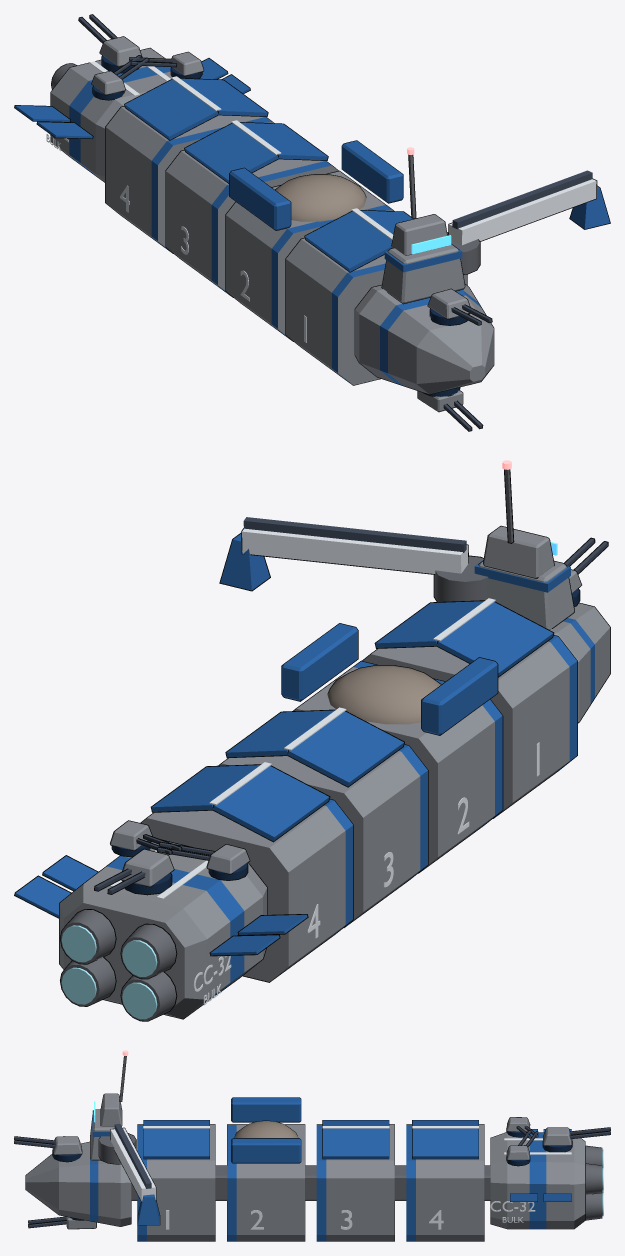
File: Cargo_Cruiser_Bulk.fbx
3 views of the same model, one above another, from view 1: azimuth 30°, elevation 25°; view 2: azimuth 150°, elevation 25°; view 3: azimuth 270°, elevation 25° (orthographic). The views are drawn at different scales.
Parts seen in each view (by area): view 1: Bow.001, Hold0, Hold2, Hold3, Hold1, Engine.001, Hold1_Ore, Boom_Truss, Hold3_Hatch-1, Bridge_A.001, Hold0_Hatch-1, Hold2_Hatch-1 (+16 smaller); view 2: Engine.001, Hold3, Hold0, Hold2, Hold1, Boom_Truss, Hold1_Ore, Hold3_Hatch-1, Hold2_Hatch-1, Hold0_Hatch-1, Bow.001, Hold1_Cover1 (+25 smaller); view 3: Engine.001, Hold2, Hold3, Hold1, Hold0, Bow.001, Hold2_Hatch1, Hold0_Hatch1, Hold3_Hatch1, Hold1_Cover1, Hold1_Cover-1, Spine.001 (+18 smaller).
Part boxes in pixels (x1,y1,x2,y2): Bow.001: (354, 284, 494, 394); Hold0: (285, 238, 467, 385); Hold2: (165, 150, 338, 297); Hold3: (105, 106, 274, 253); Hold1: (225, 170, 393, 341); Engine.001: (50, 47, 171, 182); Hold1_Ore: (275, 174, 366, 221); Boom_Truss: (448, 178, 597, 245); Hold3_Hatch-1: (124, 79, 218, 140); Bridge_A.001: (381, 244, 465, 304); Hold0_Hatch-1: (304, 211, 392, 272); Hold2_Hatch-1: (184, 123, 279, 183); Engine.001: (59, 839, 267, 1019); Hold3: (140, 799, 353, 982); Hold0: (362, 635, 577, 818); Hold2: (218, 744, 428, 927); Hold1: (293, 660, 503, 873); Boom_Truss: (241, 528, 468, 574); Hold1_Ore: (327, 665, 441, 724); Hold3_Hatch-1: (212, 765, 330, 842); Hold2_Hatch-1: (287, 711, 404, 787); Hold0_Hatch-1: (436, 601, 554, 677); Bow.001: (550, 602, 610, 723); Hold1_Cover1: (281, 623, 358, 701); Engine.001: (490, 1132, 585, 1229); Hold2: (316, 1124, 394, 1241); Hold3: (406, 1124, 484, 1241); Hold1: (227, 1124, 305, 1241); Hold0: (137, 1124, 215, 1241); Bow.001: (25, 1141, 131, 1226); Hold2_Hatch1: (322, 1128, 389, 1159); Hold0_Hatch1: (143, 1128, 209, 1159); Hold3_Hatch1: (412, 1128, 478, 1159); Hold1_Cover1: (231, 1138, 301, 1163); Hold1_Cover-1: (231, 1097, 301, 1122); Spine.001: (131, 1165, 490, 1200).
Size of the model in its own units: 85.7 by 62.48 by 194.
